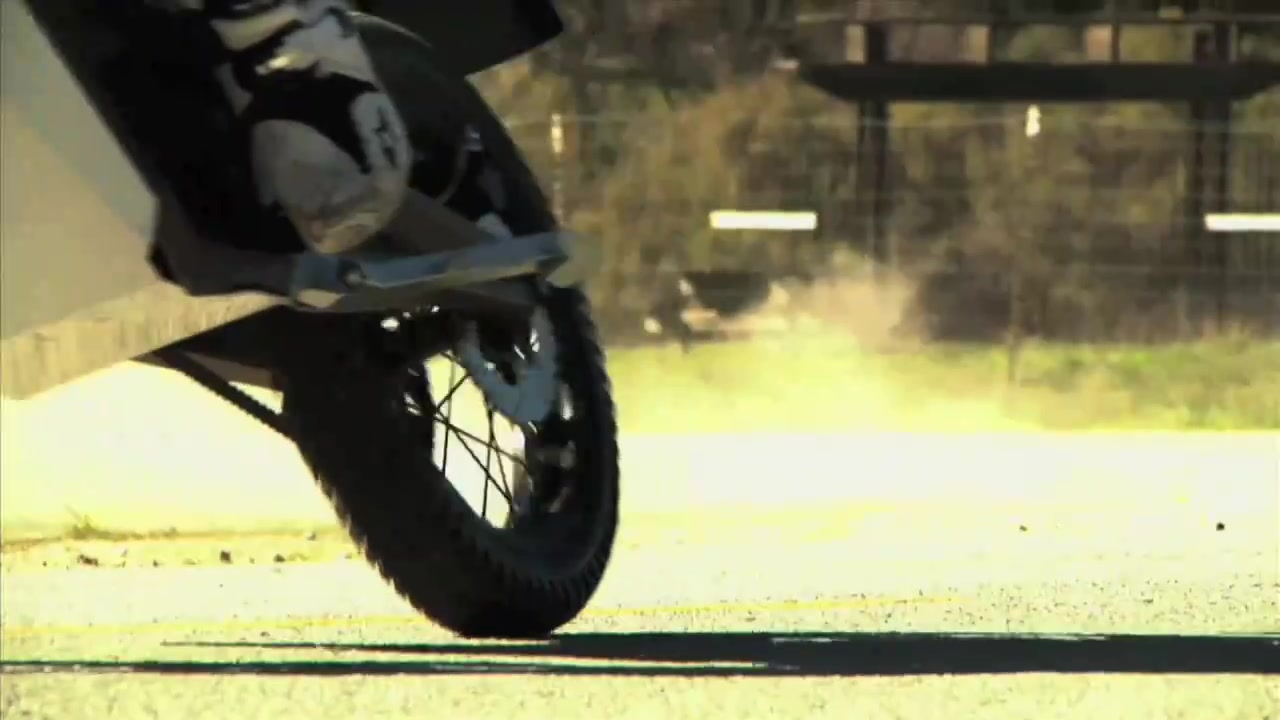motorbike: (1, 1, 627, 643)
